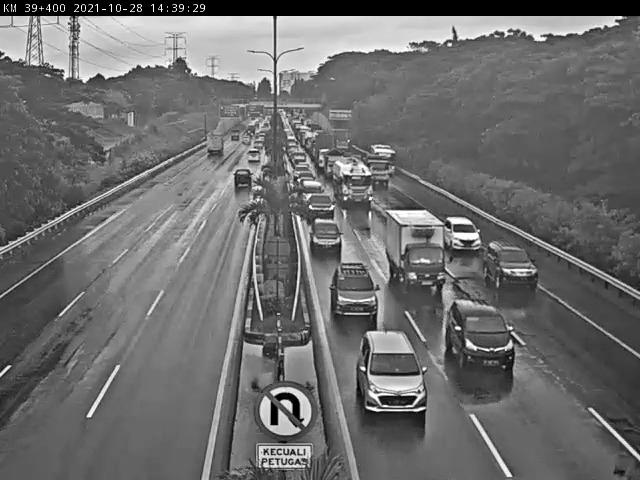big truck: (332, 157, 374, 206)
car: (353, 328, 432, 421), (441, 297, 519, 374), (326, 264, 384, 317), (487, 237, 540, 294), (439, 211, 483, 257), (309, 213, 346, 262), (301, 189, 337, 223), (224, 169, 254, 194), (244, 139, 271, 154), (245, 148, 264, 163), (234, 132, 254, 146)
small truck: (381, 204, 448, 295), (365, 150, 394, 190), (201, 129, 231, 161)
